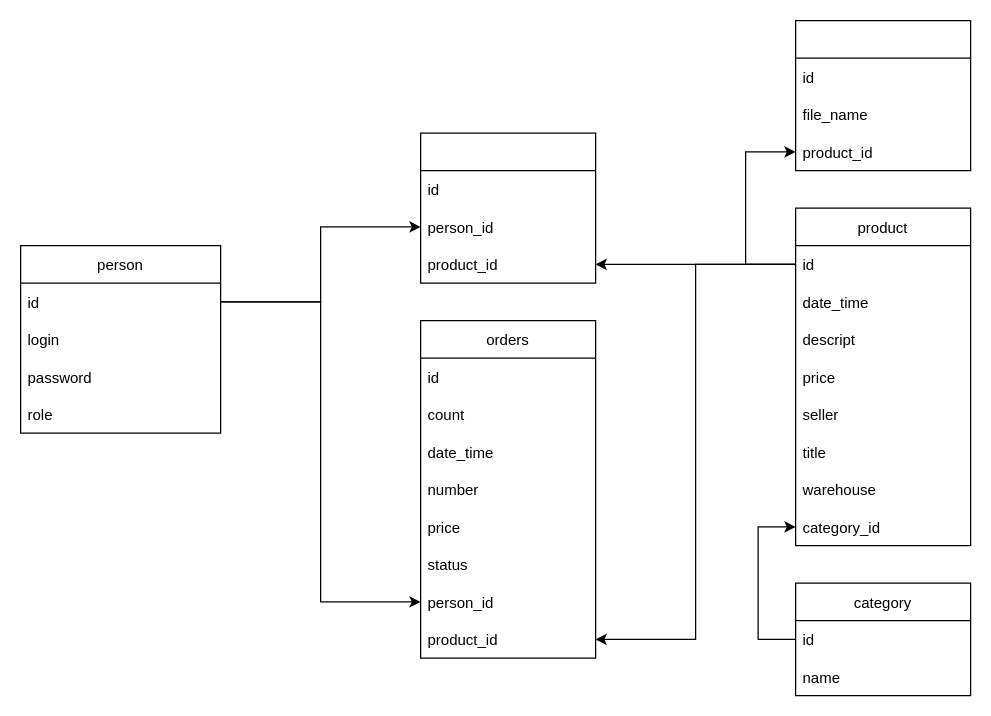
Image size: 991x716. Some labels were removed from this diagram. Each missing label, with the box of its shape:
image: (794, 19, 971, 171)
product_cart: (419, 132, 596, 283)
